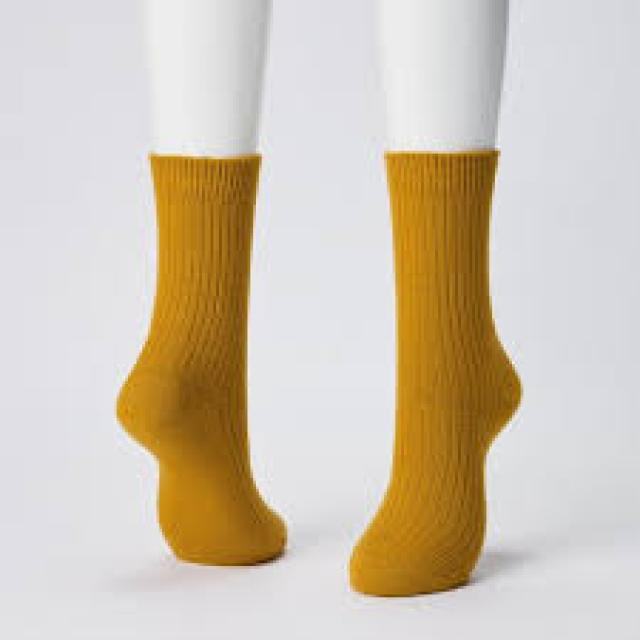sock: (347, 0, 520, 594)
